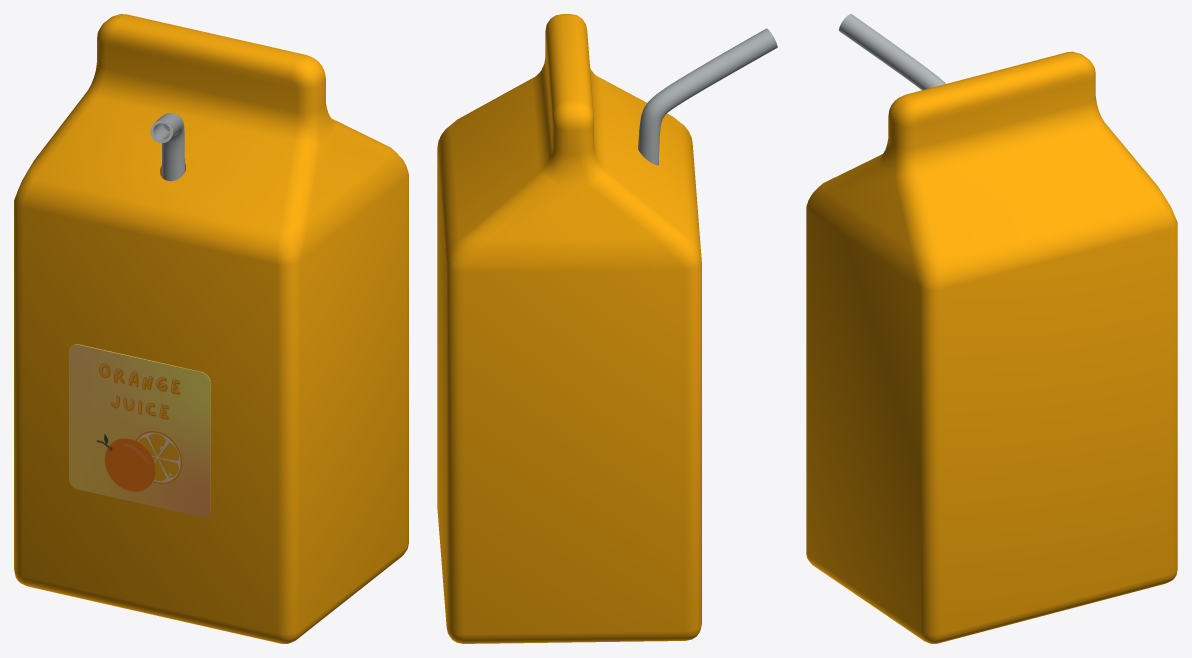
3 renders of one model, left to right at view 1: azimuth 30°, elevation 25°; view 2: azimuth 150°, elevation 25°; view 3: azimuth 270°, elevation 25°, orthographic. The views are drawn at different scales.
Visible parts, largest first — view 1: Cube_0, ORANGE JUICE_4, Cube.001_1; view 2: Cube_0, Cube.001_1; view 3: Cube_0, Cube.001_1.
Boxes of the visible parts, x1,y1,x2,y2 form: Cube_0: [14, 14, 408, 643]; ORANGE JUICE_4: [69, 344, 210, 517]; Cube.001_1: [150, 113, 184, 181]; Cube_0: [437, 14, 701, 643]; Cube.001_1: [638, 28, 777, 165]; Cube_0: [806, 51, 1177, 643]; Cube.001_1: [839, 14, 945, 90].
Size of the model in its own units: 2.35 by 3.69 by 2.47.
Materials: 4 (1 with a texture image).
